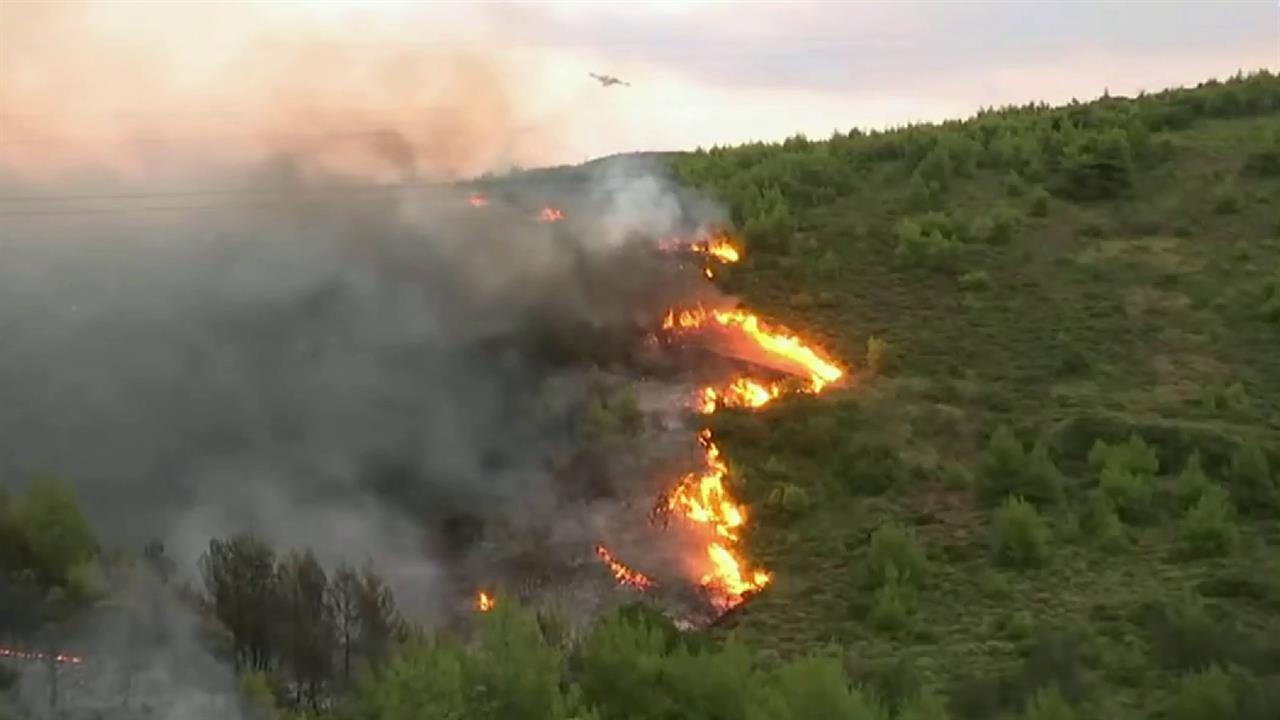fire: (596, 429, 775, 629), (654, 298, 851, 416), (650, 219, 752, 282)
